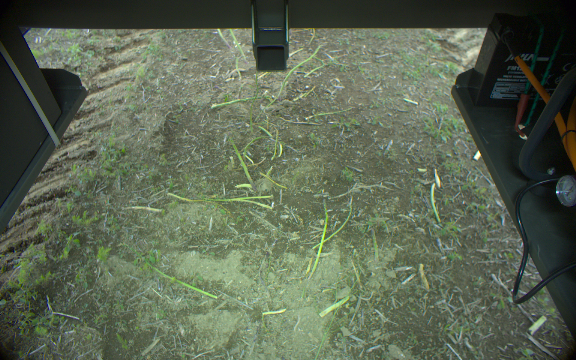aspa: (268, 44, 324, 107), (306, 197, 330, 281), (229, 134, 256, 192), (211, 93, 264, 108), (228, 27, 247, 63), (215, 29, 230, 52)
